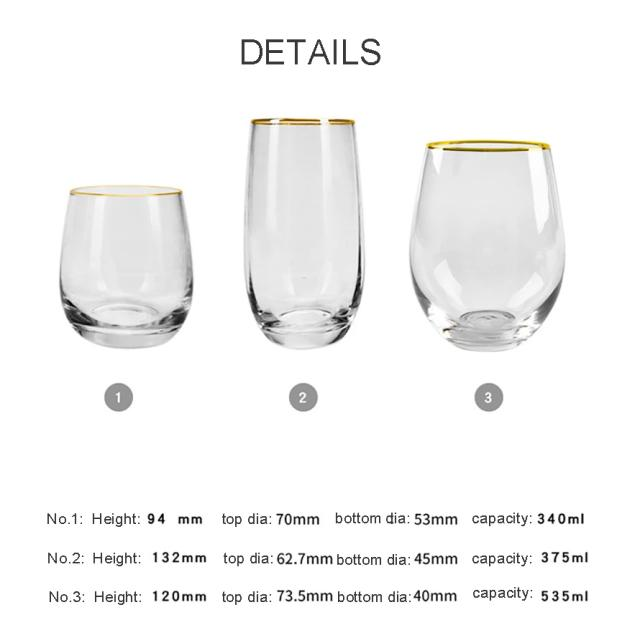Cup: (406, 138, 566, 352), (243, 112, 363, 349), (55, 180, 195, 354)
